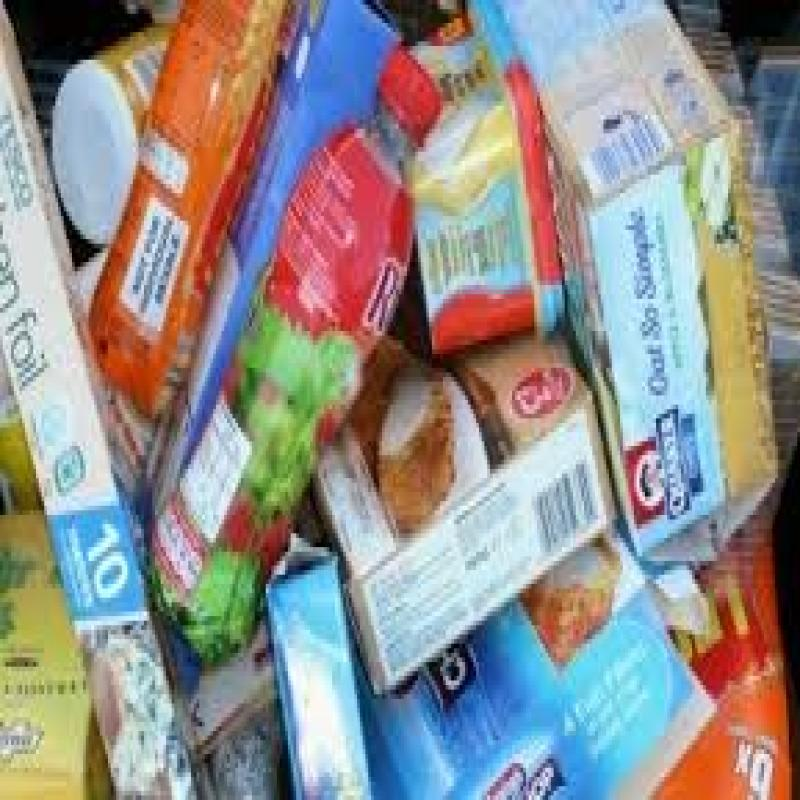botella: (147, 32, 444, 645), (72, 8, 301, 427)
